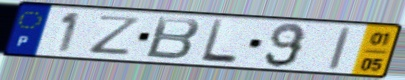1: (57, 11, 81, 54)
9: (262, 21, 307, 69)
B: (143, 15, 203, 62)
I: (326, 25, 355, 72)
L: (199, 18, 240, 65)
Z: (88, 14, 145, 57)
